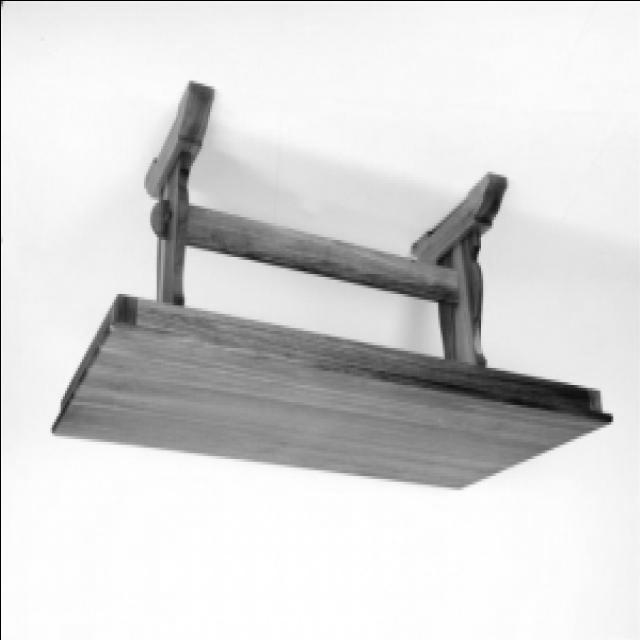table: (45, 79, 611, 494)
